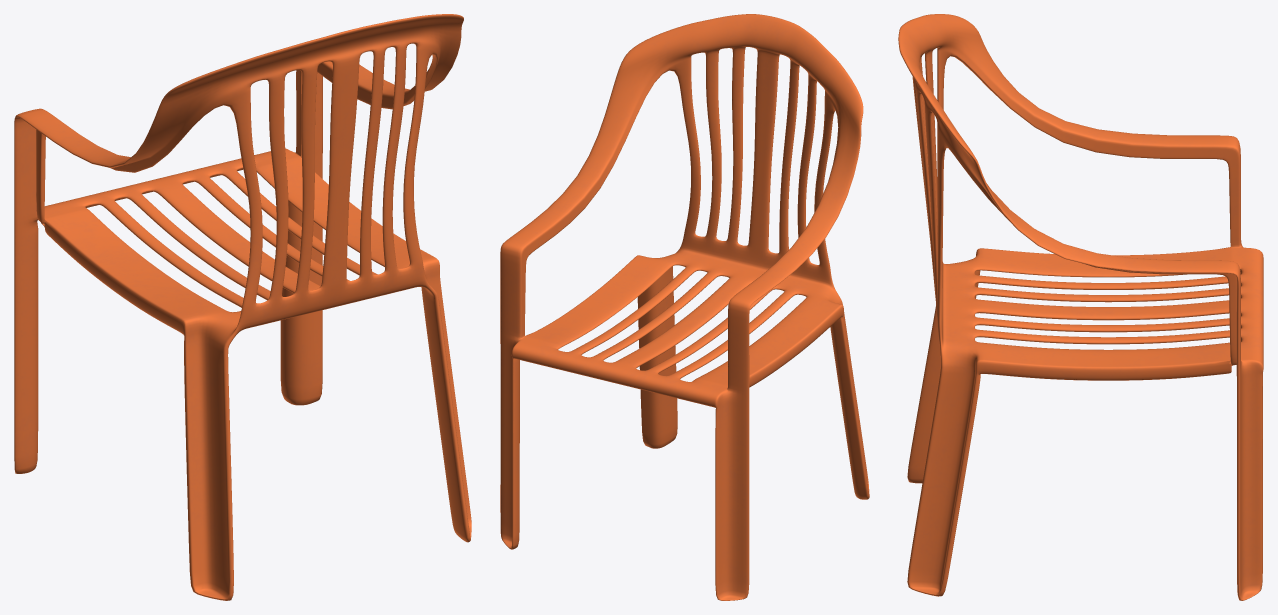
Rendered from Chair30.fbx.
3 views of the same model, side by side, from view 1: azimuth 30°, elevation 25°; view 2: azimuth 150°, elevation 25°; view 3: azimuth 270°, elevation 25° (orthographic). The views are drawn at different scales.
Visible parts, largest first — view 1: Chair30; view 2: Chair30; view 3: Chair30.
Boxes of the visible parts, x1,y1,x2,y2 form: Chair30: (14, 14, 471, 600); Chair30: (500, 14, 869, 600); Chair30: (898, 14, 1263, 600).
Bounding box in the file's own units: 55.98 × 95.02 × 62.95.
